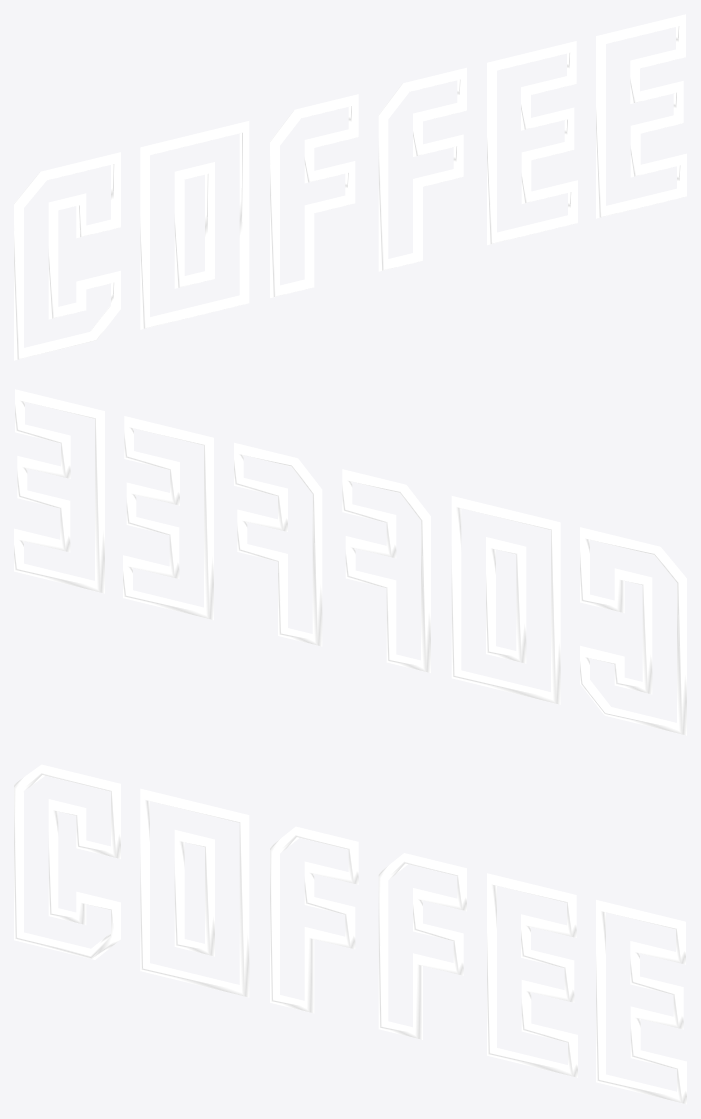
3 views of the same model, one above another, from view 1: azimuth 30°, elevation 25°; view 2: azimuth 150°, elevation 25°; view 3: azimuth 330°, elevation 25° (orthographic).
Visible parts, largest first — view 1: NeonSignCoffee; view 2: NeonSignCoffee; view 3: NeonSignCoffee.
Part boxes in pixels (bbox=[...]): NeonSignCoffee: bbox=[14, 14, 686, 360]; NeonSignCoffee: bbox=[14, 389, 686, 735]; NeonSignCoffee: bbox=[14, 764, 686, 1104].
Bounding box in the file's own units: 1.14 × 0.2963 × 0.0145.
1 material, 1 textured.
